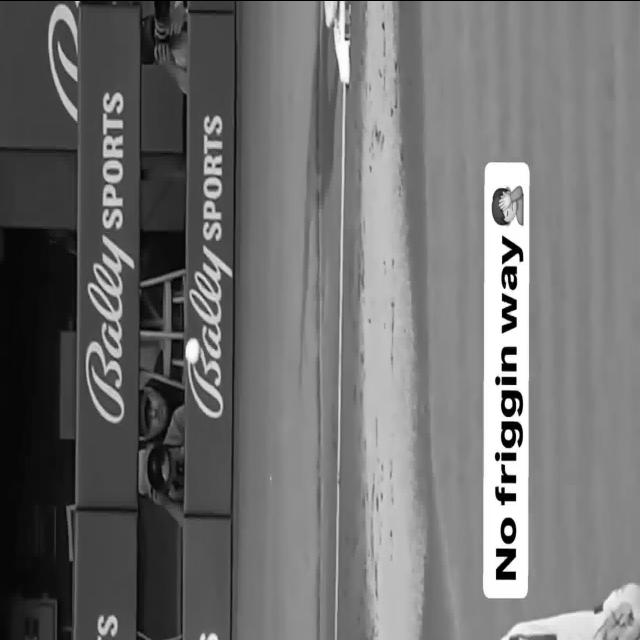base: (334, 0, 351, 84)
baseball: (185, 335, 201, 364)
baseball_glove: (595, 602, 640, 640)
shoe: (324, 0, 339, 27)
